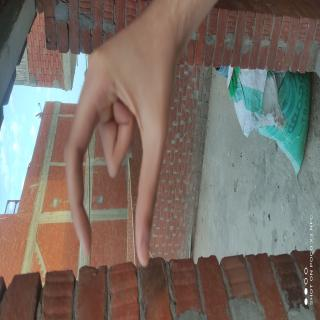DELL: (23, 132, 144, 320)
